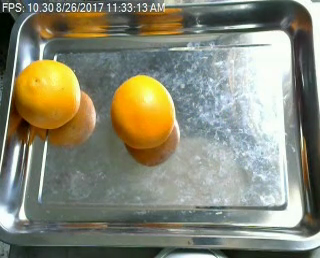Orange: (111, 75, 175, 149), (14, 59, 81, 129)
